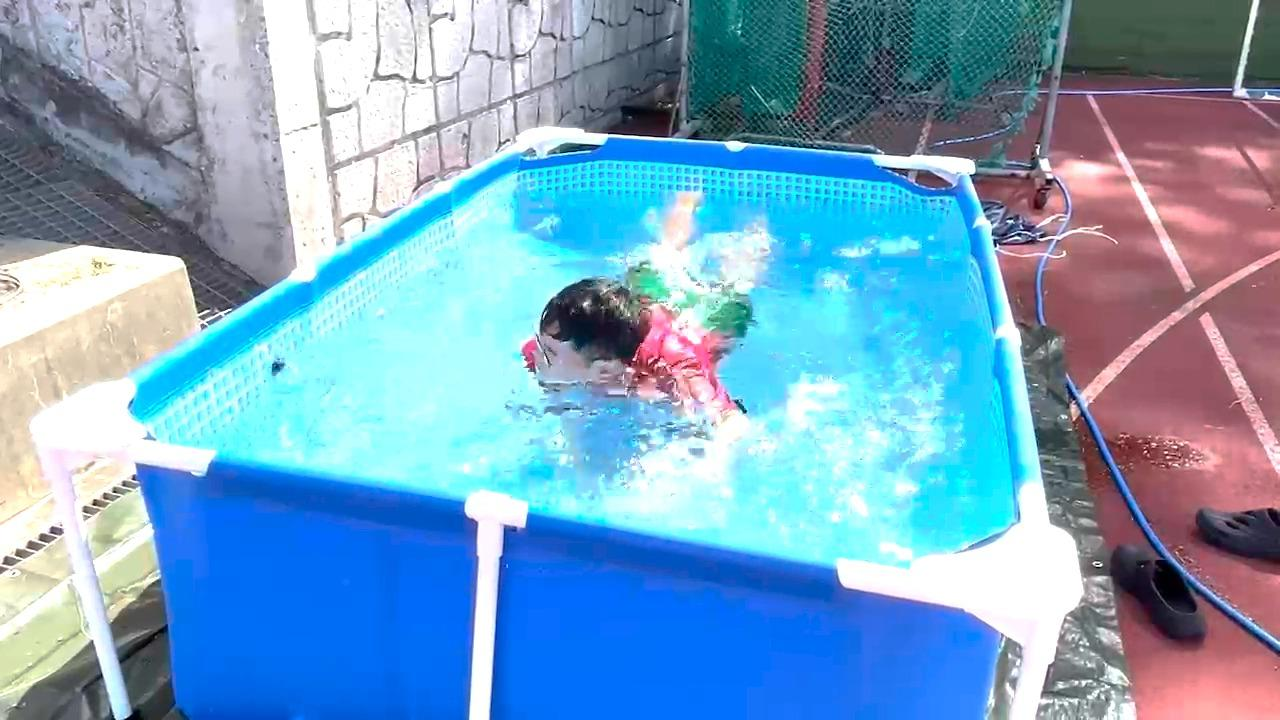Swimming: (519, 213, 793, 453)
